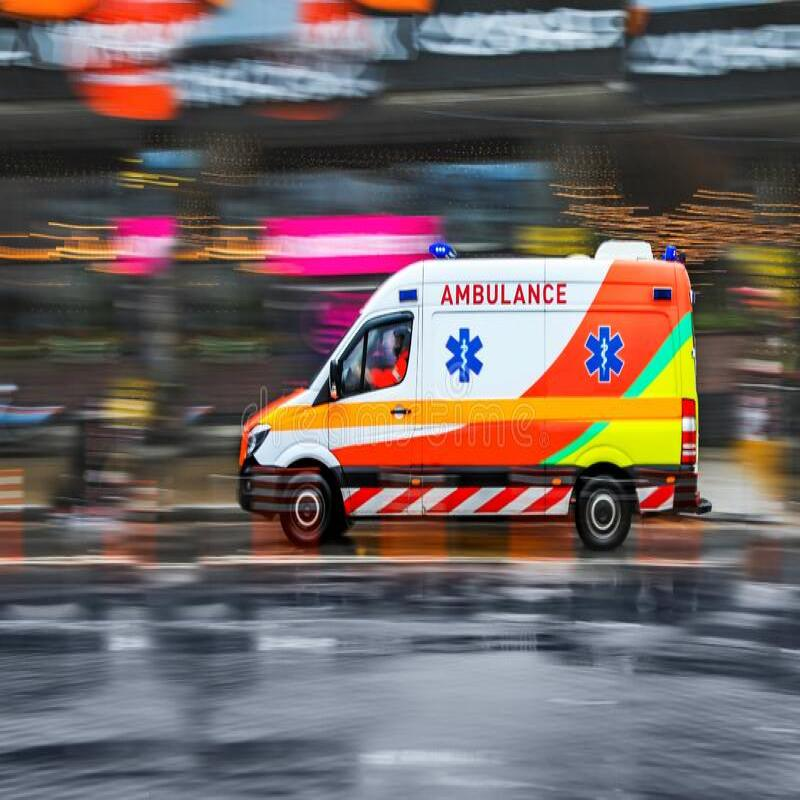ambulance: (222, 234, 730, 553)
